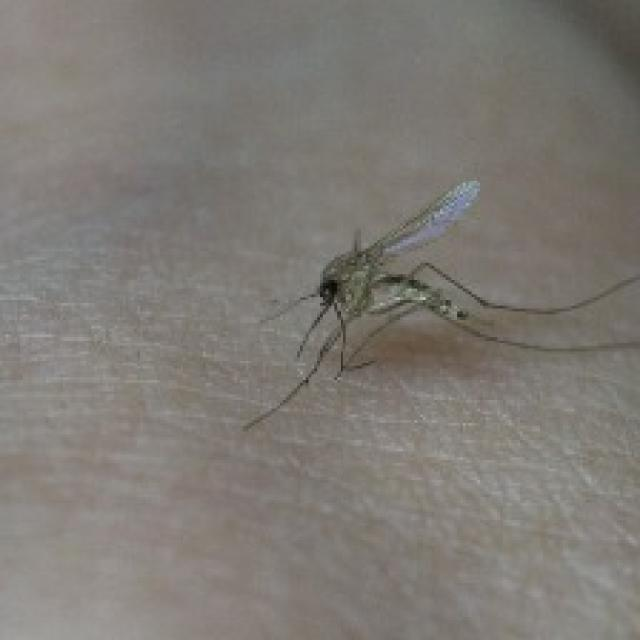culex: (240, 175, 637, 432)
